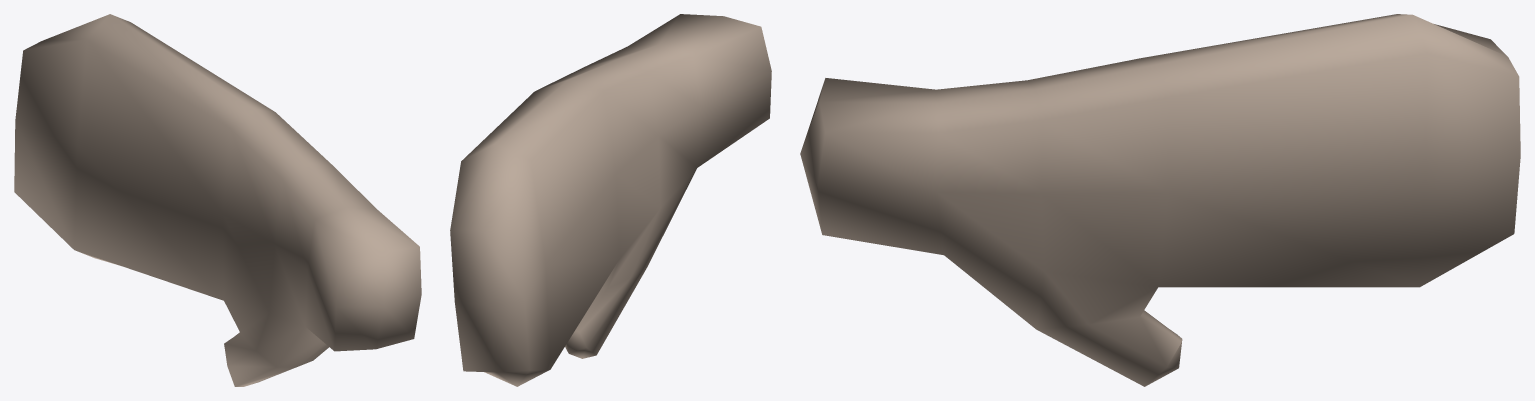
The model's file is HandLeft.dae.
The picture shows the model from 3 angles, left to right: view 1: azimuth 30°, elevation 25°; view 2: azimuth 150°, elevation 25°; view 3: azimuth 270°, elevation 25°; orthographic projection. The views are drawn at different scales.
Parts seen in each view (by area): view 1: Hand_L; view 2: Hand_L; view 3: Hand_L.
Part boxes in pixels (<box>): Hand_L: <box>14,14,421,386</box>; Hand_L: <box>450,14,771,386</box>; Hand_L: <box>800,14,1520,386</box>.
Bounding box in the file's own units: 0.0518 × 0.2031 × 0.1105.
